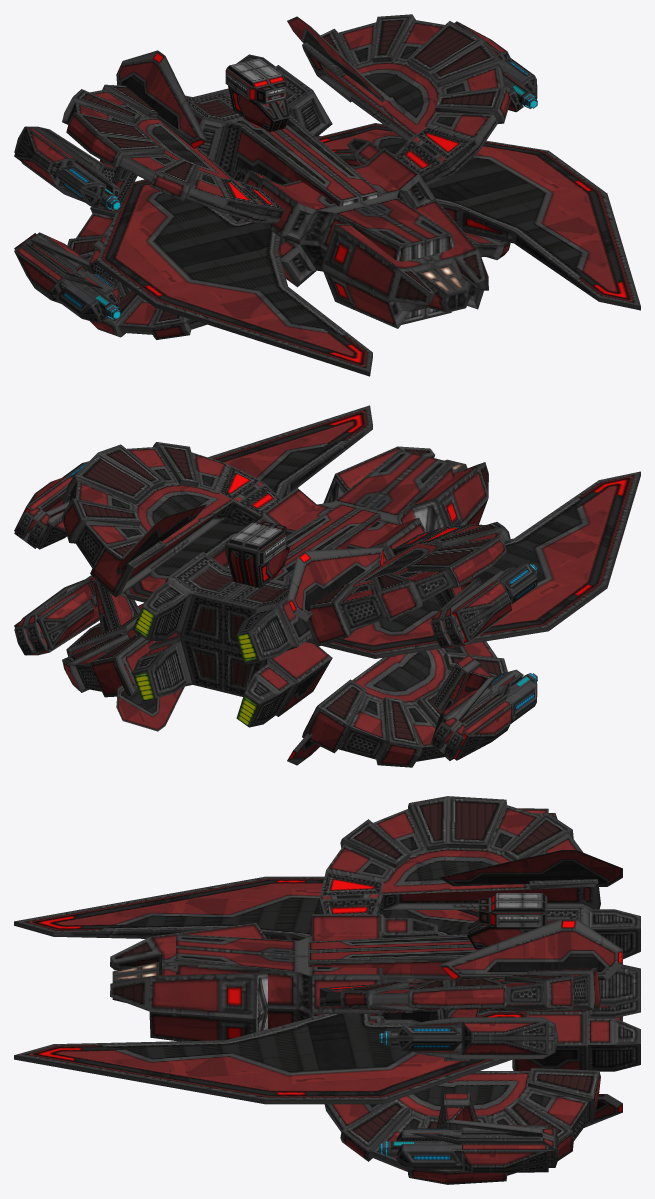
The model's file is BFP_MediumStarship02.FBX.
The picture shows the model from 3 angles, top to bottom: view 1: azimuth 30°, elevation 25°; view 2: azimuth 150°, elevation 25°; view 3: azimuth 270°, elevation 25°; orthographic projection.
Parts seen in each view (by area): view 1: MainHullSection, MainWing_Right, UpperWingEngine_UpperLeft, MainWing_Left, UpperWingEngine_UpperRight, PlasmaCannon_LowerRight, PlasmaCannon_UpperRight, UpperWingEngine_LowerRight, BFP_MediumCockpit01, PlasmaCannon_UpperLeft, UpperWingEngine_LowerLeft; view 2: MainHullSection, UpperWingEngine_UpperLeft, MainWing_Right, UpperWingEngine_UpperRight, UpperWingEngine_LowerRight, MainWing_Left, PlasmaCannon_LowerRight, UpperWingEngine_LowerLeft, PlasmaCannon_LowerLeft, PlasmaCannon_UpperRight, BFP_MediumCockpit01, PlasmaCannon_UpperLeft; view 3: MainHullSection, UpperWingEngine_UpperRight, MainWing_Left, UpperWingEngine_UpperLeft, UpperWingEngine_LowerLeft, MainWing_Right, PlasmaCannon_LowerLeft, PlasmaCannon_UpperLeft, BFP_MediumCockpit01.
Part boxes in pixels (left/top/right/bottom): MainHullSection: left=185, top=54, right=488, bottom=328; MainWing_Right: left=97, top=179, right=372, bottom=376; UpperWingEngine_UpperLeft: left=287, top=14, right=511, bottom=185; MainWing_Left: left=317, top=123, right=640, bottom=310; UpperWingEngine_UpperRight: left=62, top=50, right=284, bottom=223; PlasmaCannon_LowerRight: left=14, top=232, right=131, bottom=323; PlasmaCannon_UpperRight: left=14, top=126, right=137, bottom=212; UpperWingEngine_LowerRight: left=67, top=206, right=286, bottom=339; BFP_MediumCockpit01: left=225, top=58, right=289, bottom=131; PlasmaCannon_UpperLeft: left=454, top=21, right=537, bottom=112; UpperWingEngine_LowerLeft: left=317, top=135, right=510, bottom=259; MainHullSection: left=132, top=446, right=488, bottom=727; UpperWingEngine_UpperLeft: left=62, top=442, right=281, bottom=597; MainWing_Right: left=305, top=471, right=640, bottom=658; UpperWingEngine_UpperRight: left=287, top=522, right=511, bottom=646; UpperWingEngine_LowerRight: left=287, top=641, right=507, bottom=767; MainWing_Left: left=124, top=405, right=372, bottom=602; PlasmaCannon_LowerRight: left=430, top=654, right=537, bottom=760; UpperWingEngine_LowerLeft: left=62, top=567, right=229, bottom=731; PlasmaCannon_LowerLeft: left=14, top=575, right=140, bottom=655; PlasmaCannon_UpperRight: left=430, top=563, right=537, bottom=648; BFP_MediumCockpit01: left=225, top=521, right=289, bottom=587; PlasmaCannon_UpperLeft: left=14, top=461, right=88, bottom=549; MainHullSection: left=110, top=906, right=640, bottom=1071; UpperWingEngine_UpperRight: left=319, top=796, right=622, bottom=914; MainWing_Left: left=14, top=1010, right=528, bottom=1104; UpperWingEngine_UpperLeft: left=319, top=919, right=622, bottom=1011; UpperWingEngine_LowerLeft: left=324, top=1068, right=622, bottom=1184; MainWing_Right: left=14, top=876, right=478, bottom=940; PlasmaCannon_LowerLeft: left=379, top=1093, right=558, bottom=1172; PlasmaCannon_UpperLeft: left=379, top=1009, right=558, bottom=1061; BFP_MediumCockpit01: left=467, top=893, right=547, bottom=949.
Size of the model in its own units: 1184 by 511 by 1370.
1 material, 1 textured.
